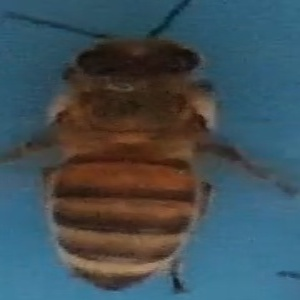bee: (5, 10, 287, 294)
